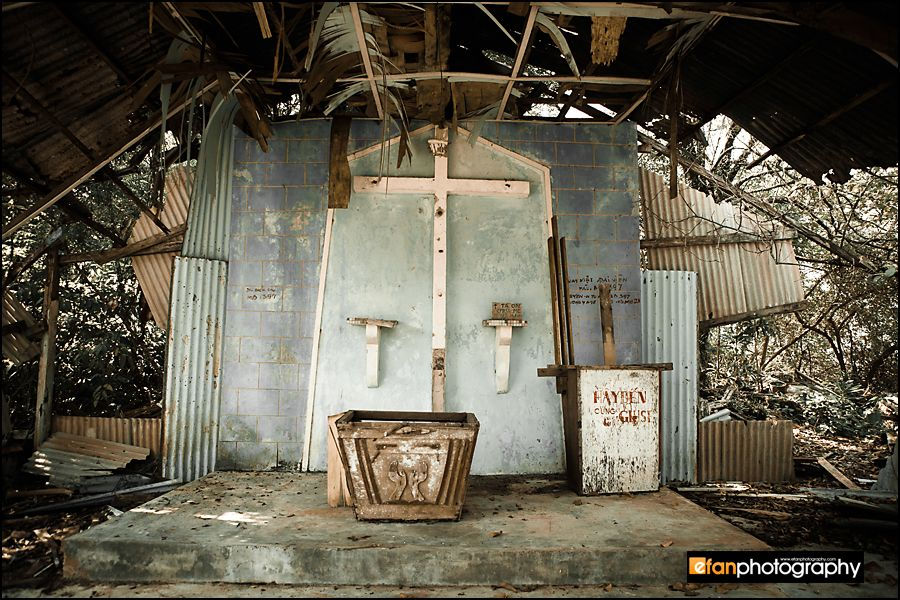Church: (298, 107, 571, 458)
